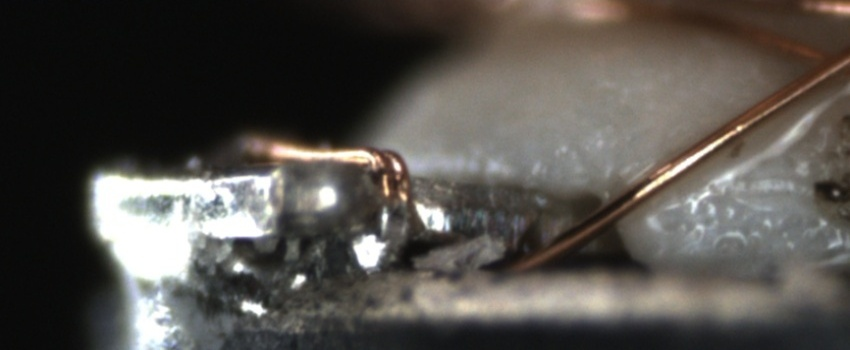CL: (781, 31, 847, 94)
TE: (237, 133, 417, 207)
